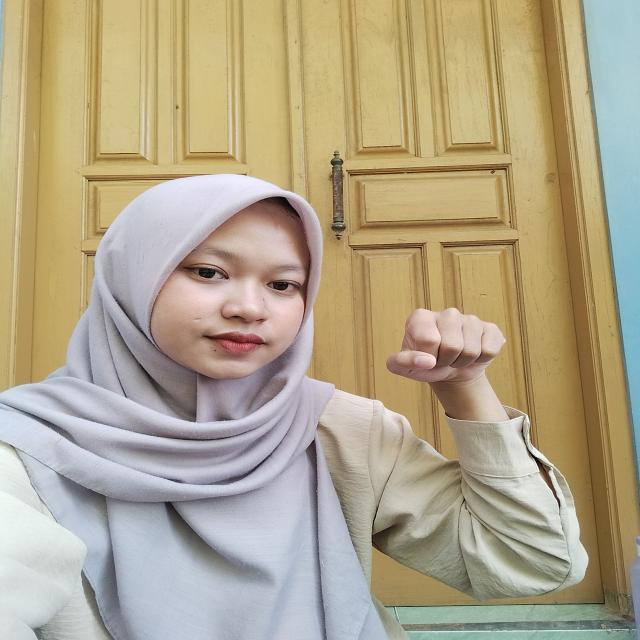baik: (365, 298, 539, 465)
